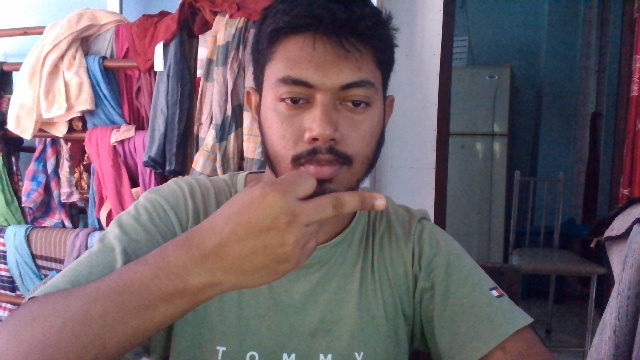fucku: (214, 168, 387, 290)
